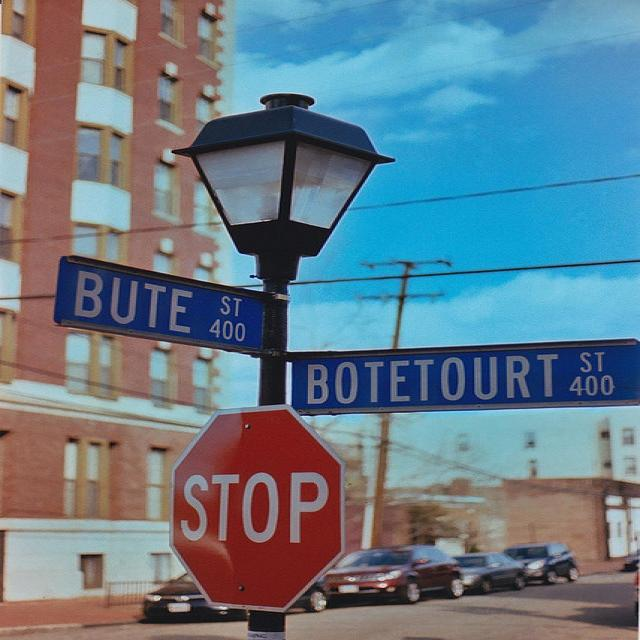Vehicle: (143, 572, 326, 622), (321, 545, 466, 607), (449, 552, 528, 596), (504, 542, 580, 584)
